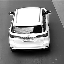motor: (16, 8, 46, 55)
